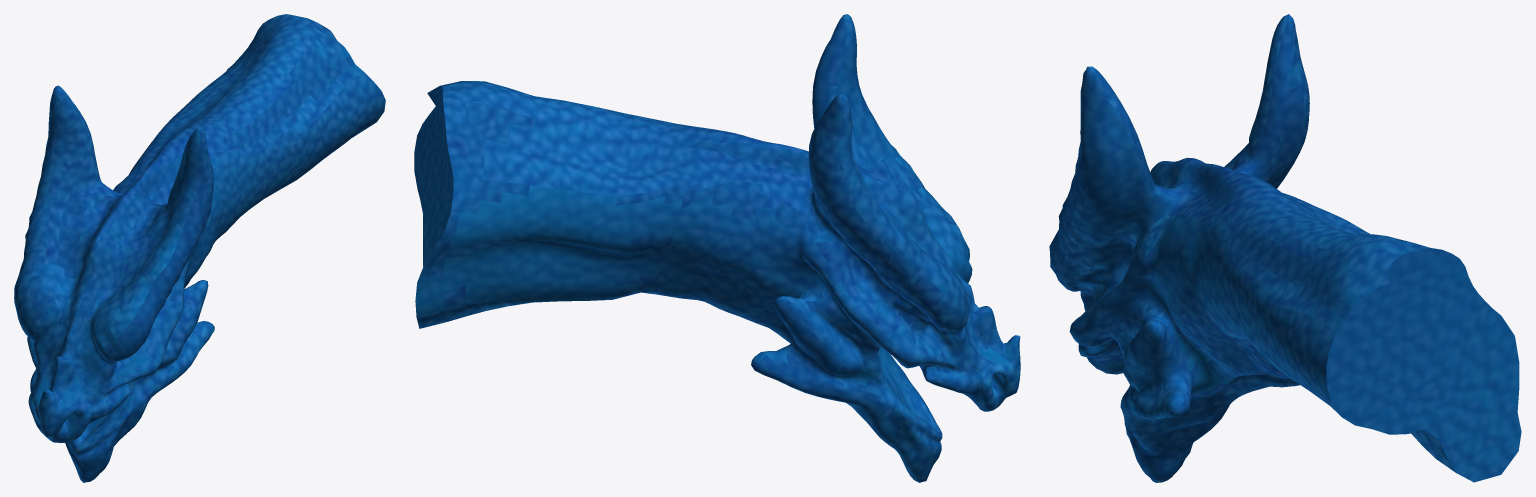
The model's file is Cabeza1.obj.
3 views of the same model, side by side, from view 1: azimuth 30°, elevation 25°; view 2: azimuth 150°, elevation 25°; view 3: azimuth 270°, elevation 25° (orthographic). The views are drawn at different scales.
Parts seen in each view (by area): view 1: Cabeza1; view 2: Cabeza1; view 3: Cabeza1.
Boxes of the visible parts, <box> form: Cabeza1: <box>14,14,385,482</box>; Cabeza1: <box>414,14,1020,482</box>; Cabeza1: <box>1049,14,1521,482</box>.
Size of the model in its own units: 13.43 by 10.74 by 9.57.
